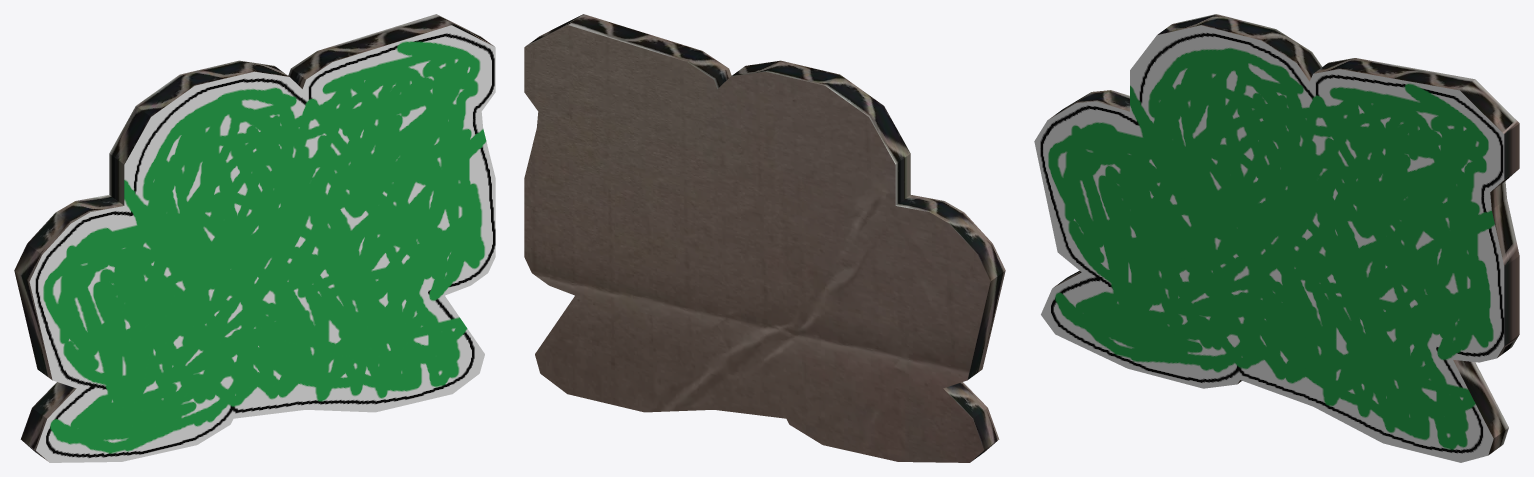
File: bush.fbx
The picture shows the model from 3 angles, left to right: view 1: azimuth 30°, elevation 25°; view 2: azimuth 150°, elevation 25°; view 3: azimuth 330°, elevation 25°; orthographic projection.
Parts seen in each view (by area): view 1: Bush; view 2: Bush; view 3: Bush.
Part boxes in pixels (<box>): Bush: <box>14,14,495,462</box>; Bush: <box>524,14,1005,462</box>; Bush: <box>1034,14,1519,462</box>.
Bounding box in the file's own units: 584 × 444 × 33.
